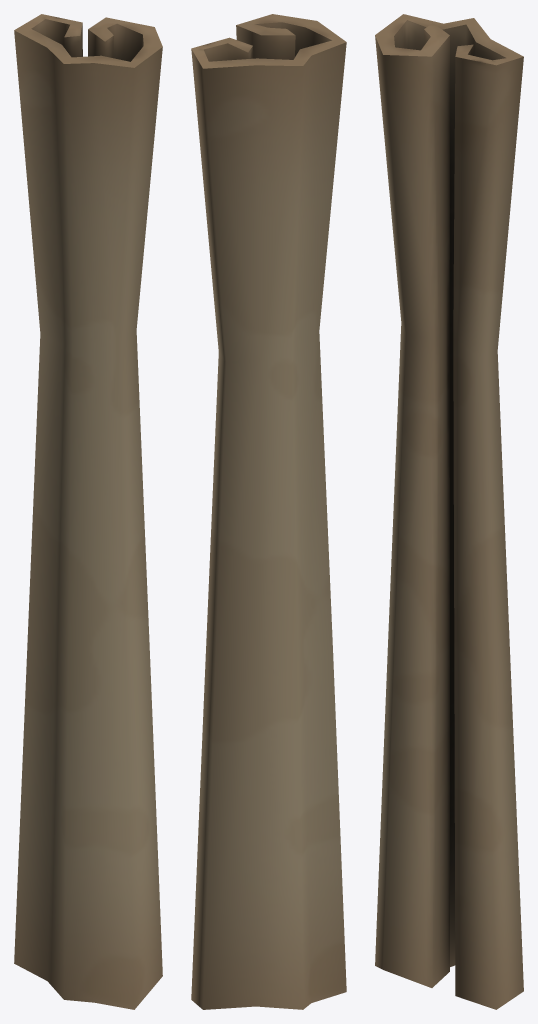
File: Scroll_B.fbx
The picture shows the model from 3 angles, left to right: view 1: azimuth 90°, elevation 25°; view 2: azimuth 150°, elevation 25°; view 3: azimuth 270°, elevation 25°; orthographic projection.
Visible parts, largest first — view 1: U_Scroll_B; view 2: U_Scroll_B; view 3: U_Scroll_B.
Boxes of the visible parts, x1,y1,x2,y2 form: U_Scroll_B: (14,14,162,1009); U_Scroll_B: (191,14,346,1009); U_Scroll_B: (375,14,523,1009).
Size of the model in its own units: 8.1 by 68.31 by 9.69.
1 material, 1 textured.
